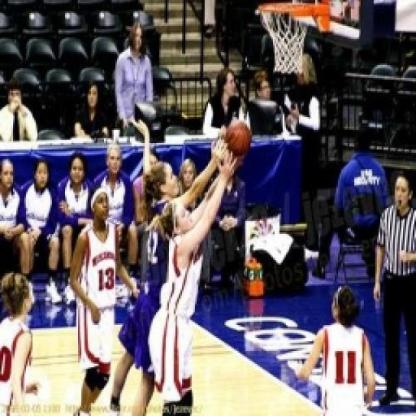basketball: (221, 116, 255, 158)
